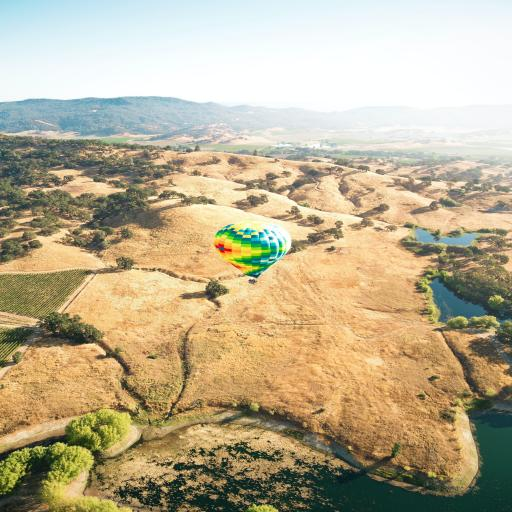hot air ballon: (210, 218, 296, 290)
